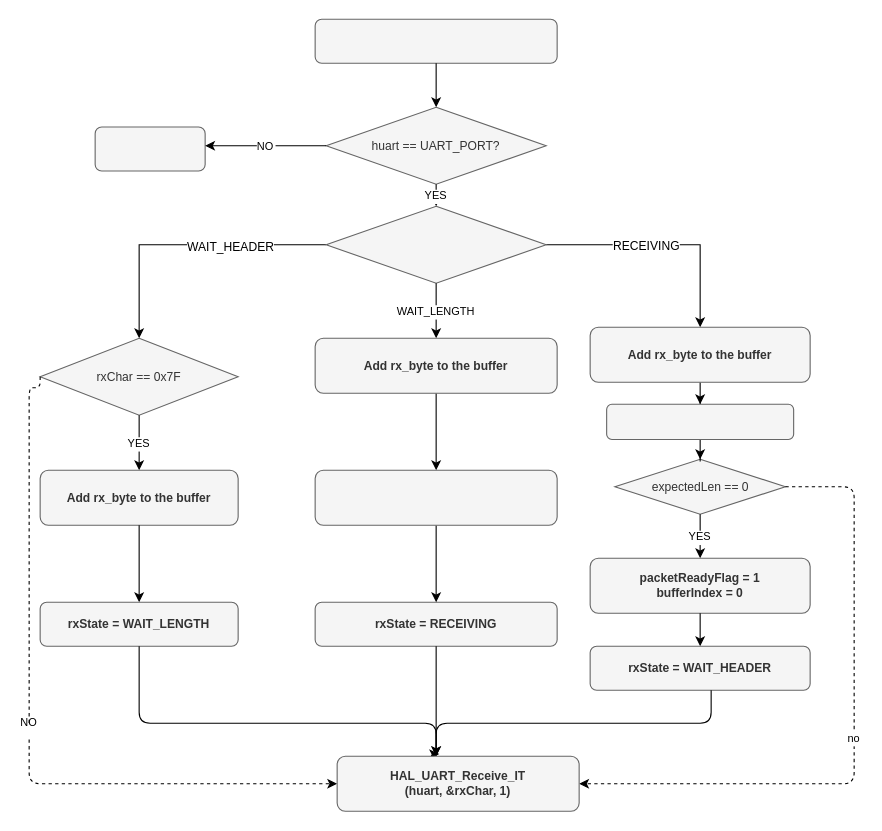
The diagram is 882 pixels wide and 831 high, and some of its shapes have lost their labels. The box of each missing label's shape, as (x1, y1, x2, y2) in pixels:
expectedLen = rx_byte: (314, 469, 557, 525)
expectedLen--: (606, 403, 794, 439)
HAL_UART_RxCpltCallback: (314, 18, 557, 63)
return: (94, 126, 205, 171)
RX_STATE: (325, 205, 546, 283)
